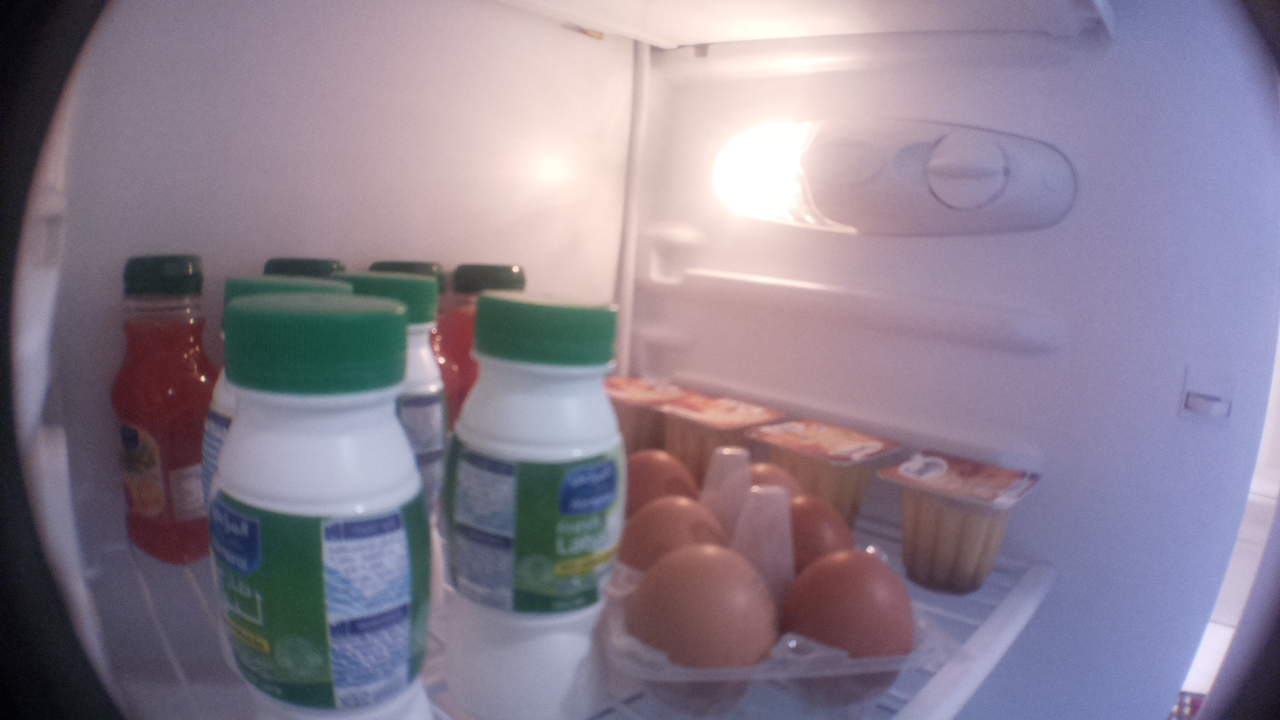caramel: (875, 450, 1055, 603), (752, 416, 903, 486), (656, 379, 788, 439), (597, 370, 699, 406)
egg: (618, 546, 783, 673), (783, 550, 935, 655), (616, 496, 737, 548), (786, 491, 868, 554), (622, 442, 708, 500), (741, 453, 811, 499)
juice: (101, 254, 225, 570), (434, 257, 530, 386)
laban: (208, 298, 443, 719), (435, 293, 632, 720), (395, 279, 441, 475)
